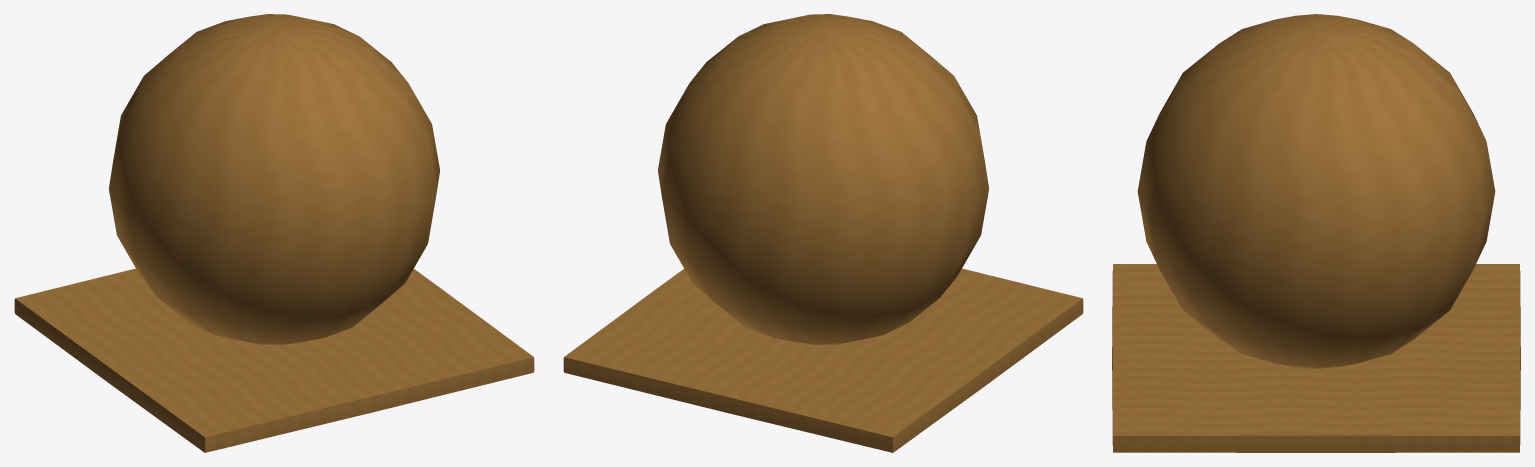
3 renders of one model, left to right at view 1: azimuth 30°, elevation 25°; view 2: azimuth 150°, elevation 25°; view 3: azimuth 270°, elevation 25°, orthographic. The views are drawn at different scales.
Parts seen in each view (by area): view 1: surface.0, surface.1; view 2: surface.0, surface.1; view 3: surface.0, surface.1.
Boxes of the visible parts, x1,y1,x2,y2 form: surface.0: [109, 14, 439, 345]; surface.1: [14, 268, 534, 452]; surface.0: [658, 14, 988, 345]; surface.1: [563, 268, 1083, 452]; surface.0: [1137, 14, 1495, 368]; surface.1: [1112, 264, 1520, 452].
Bounding box in the file's own units: 0.8 × 0.73 × 0.8.
1 material, 1 textured.
